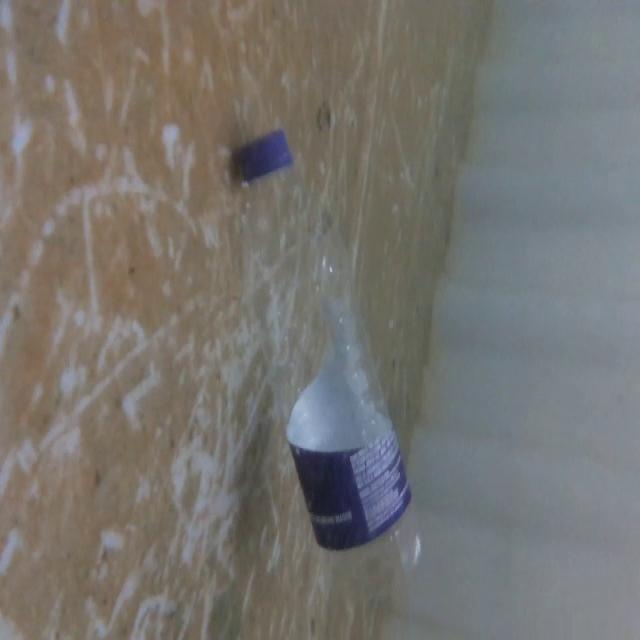plastic bottle: (223, 120, 434, 596)
